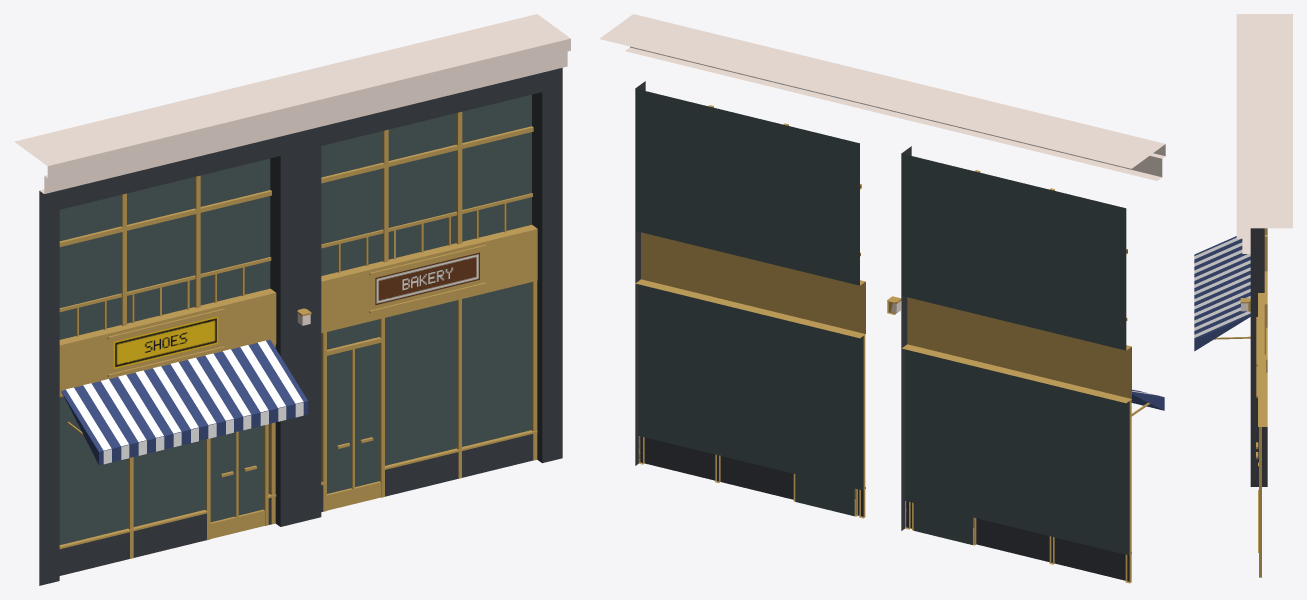
The model's file is base-w3_close.fbx.
3 renders of one model, left to right at view 1: azimuth 30°, elevation 25°; view 2: azimuth 150°, elevation 25°; view 3: azimuth 270°, elevation 25°, orthographic. The views are drawn at different scales.
Parts seen in each view (by area): view 1: a2011/600/base-w3_close; view 2: a2011/600/base-w3_close; view 3: a2011/600/base-w3_close.
Boxes of the visible parts, x1,y1,x2,y2 form: a2011/600/base-w3_close: (14,14,570,585); a2011/600/base-w3_close: (599,14,1165,583); a2011/600/base-w3_close: (1194,14,1292,577).
Bounding box in the file's own units: 9 × 7 × 1.75.
